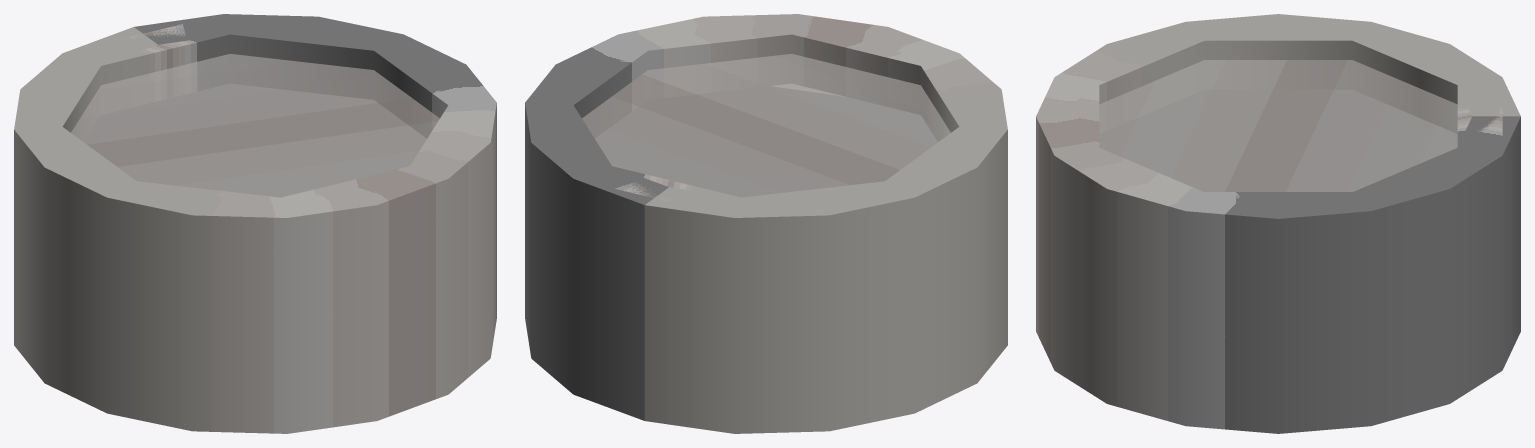
Rendered from objects_un_t01house02_light01.gltf.
3 renders of one model, left to right at view 1: azimuth 30°, elevation 25°; view 2: azimuth 150°, elevation 25°; view 3: azimuth 270°, elevation 25°, orthographic.
Parts seen in each view (by area): view 1: um_objects_un_t01house02_light01_model_lod0Shape:objects_un_ (×2), um_objects_un_t01house02_light01_model_lod1Shape:objects_un_ (×2); view 2: um_objects_un_t01house02_light01_model_lod0Shape:objects_un_ (×2), um_objects_un_t01house02_light01_model_lod1Shape:objects_un_ (×2); view 3: um_objects_un_t01house02_light01_model_lod0Shape:objects_un_ (×2), um_objects_un_t01house02_light01_model_lod1Shape:objects_un_ (×2).
Boxes of the visible parts, <box> form: um_objects_un_t01house02_light01_model_lod0Shape:objects_un_ (×2): <box>14,14,496,433</box>; um_objects_un_t01house02_light01_model_lod1Shape:objects_un_ (×2): <box>14,14,496,217</box>; um_objects_un_t01house02_light01_model_lod0Shape:objects_un_ (×2): <box>525,14,1007,433</box>; um_objects_un_t01house02_light01_model_lod1Shape:objects_un_ (×2): <box>525,14,1007,217</box>; um_objects_un_t01house02_light01_model_lod0Shape:objects_un_ (×2): <box>1036,14,1520,433</box>; um_objects_un_t01house02_light01_model_lod1Shape:objects_un_ (×2): <box>1054,21,1502,210</box>.
Bounding box in the file's own units: 0.2 × 0.0978 × 0.2.
2 materials, 2 textured.
